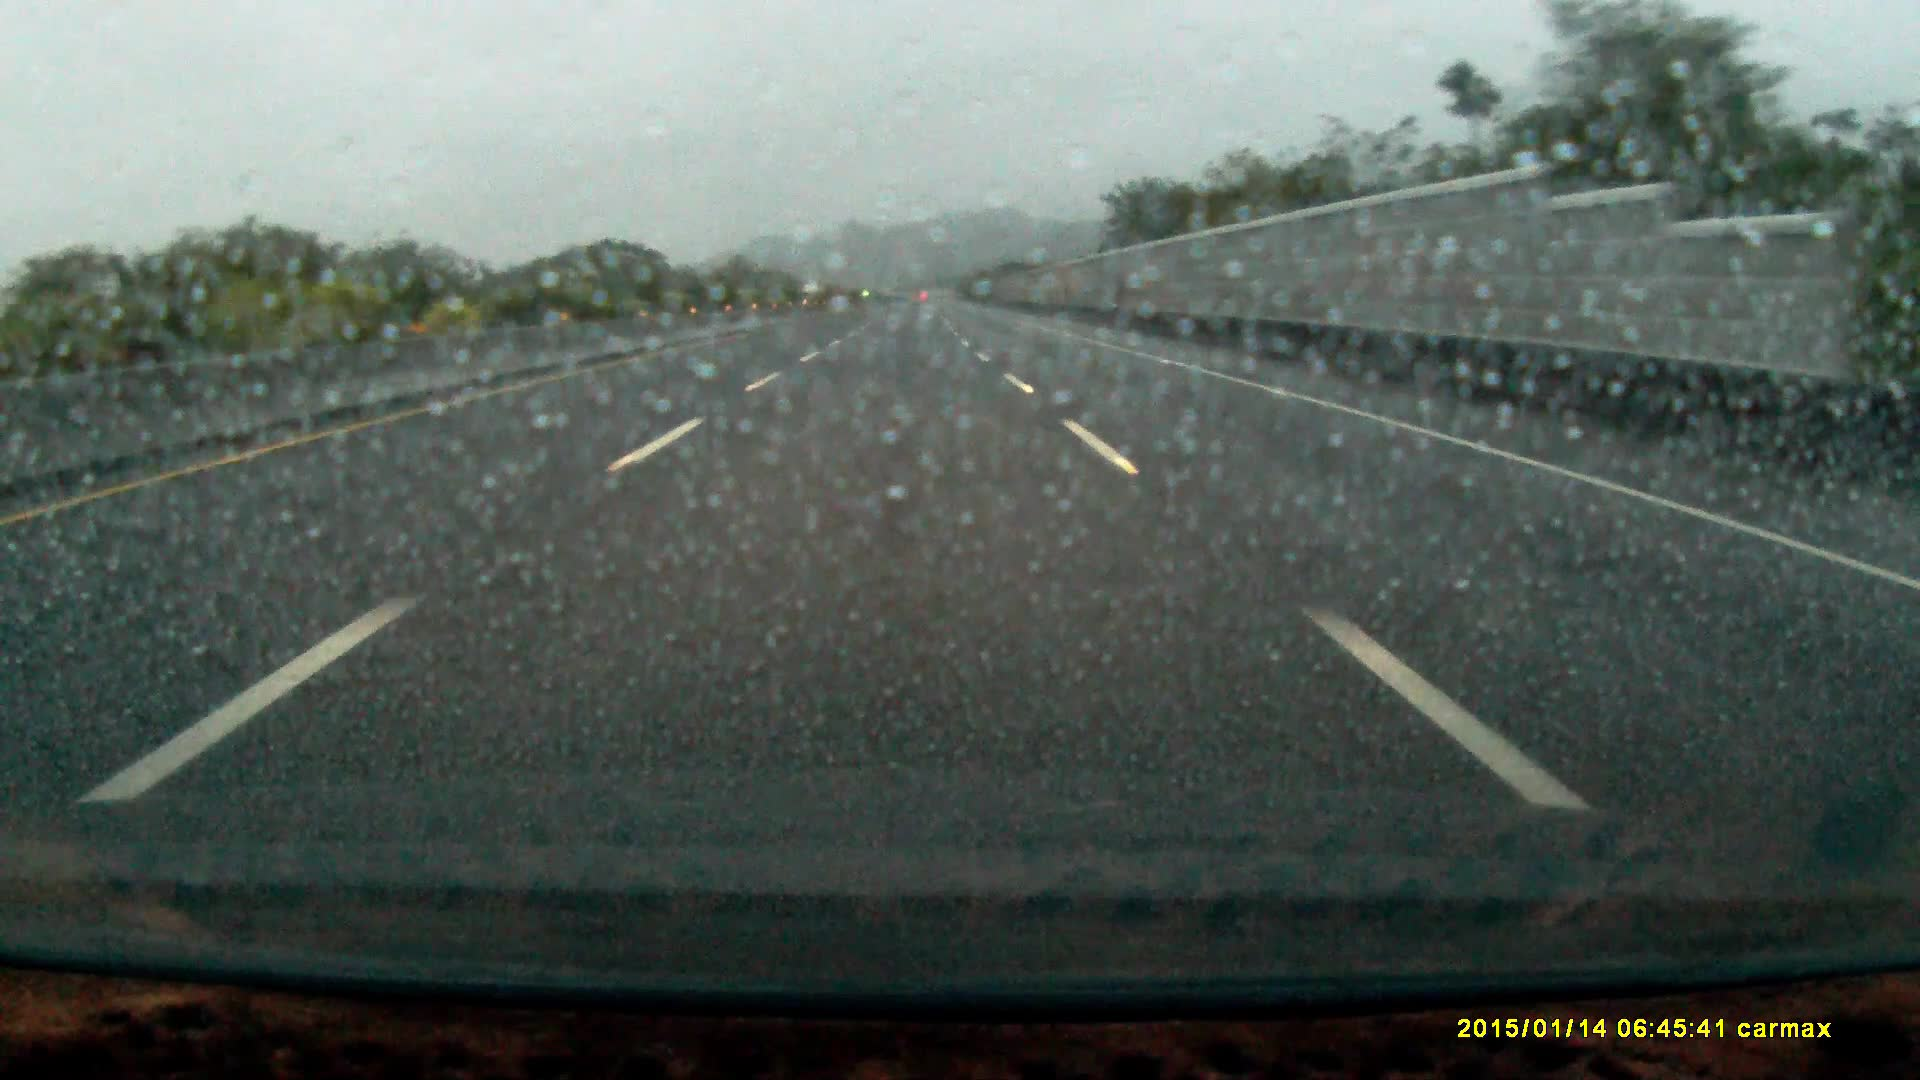vehicle: (800, 286, 824, 309)
